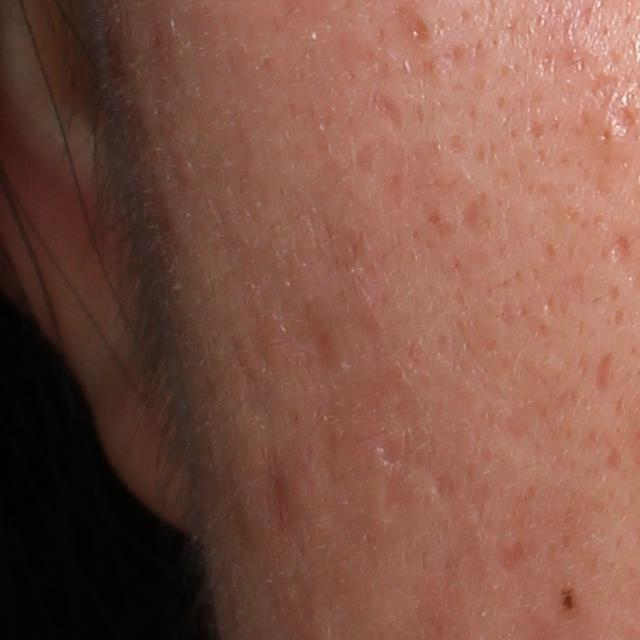atrophic_scar: (232, 336, 275, 434), (590, 342, 628, 393), (369, 92, 404, 131), (407, 9, 435, 48), (460, 197, 485, 234), (613, 103, 637, 135)
nevus: (557, 589, 578, 614)
